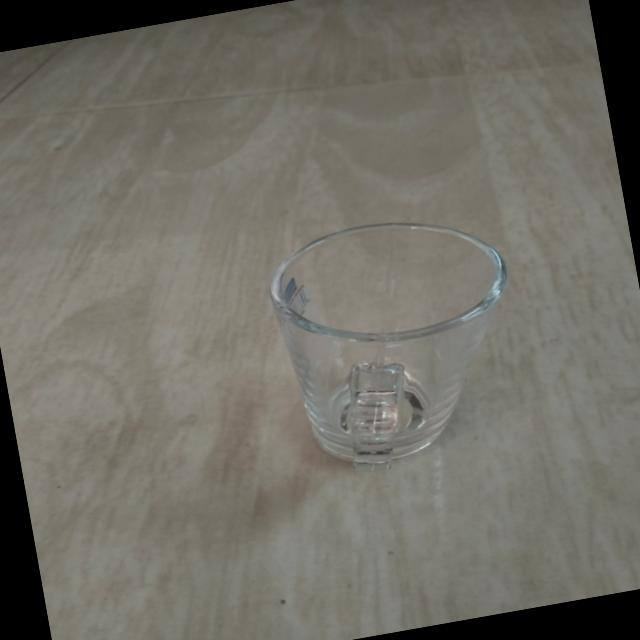glass-VX4N: (260, 202, 538, 484)
